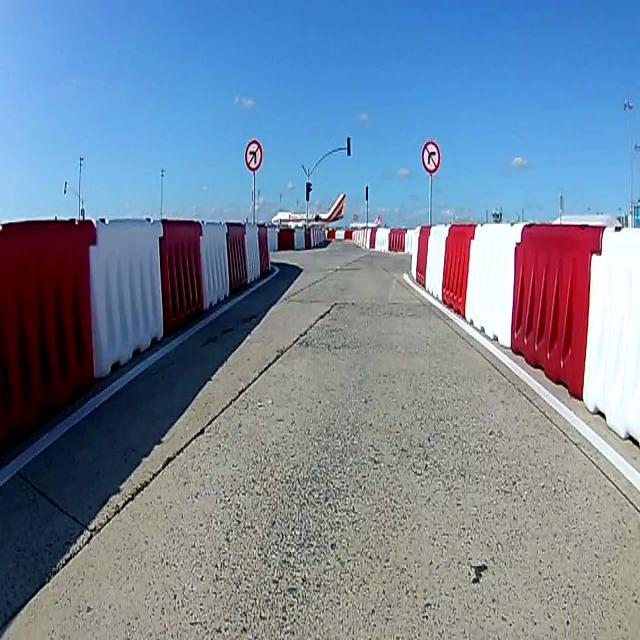sagadonulmez: (422, 142, 440, 172)
soladonulmez: (244, 140, 263, 172)
